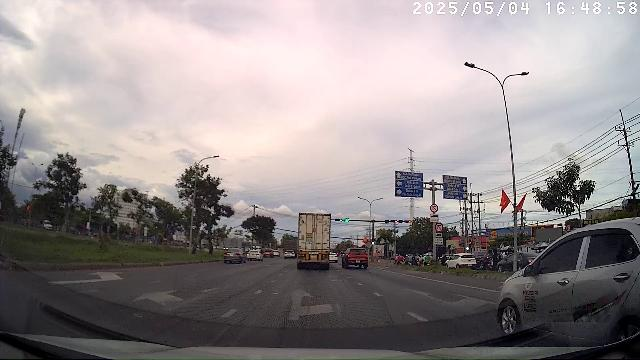123b-cam-re-phai: (435, 223, 444, 232), (430, 204, 439, 212)
